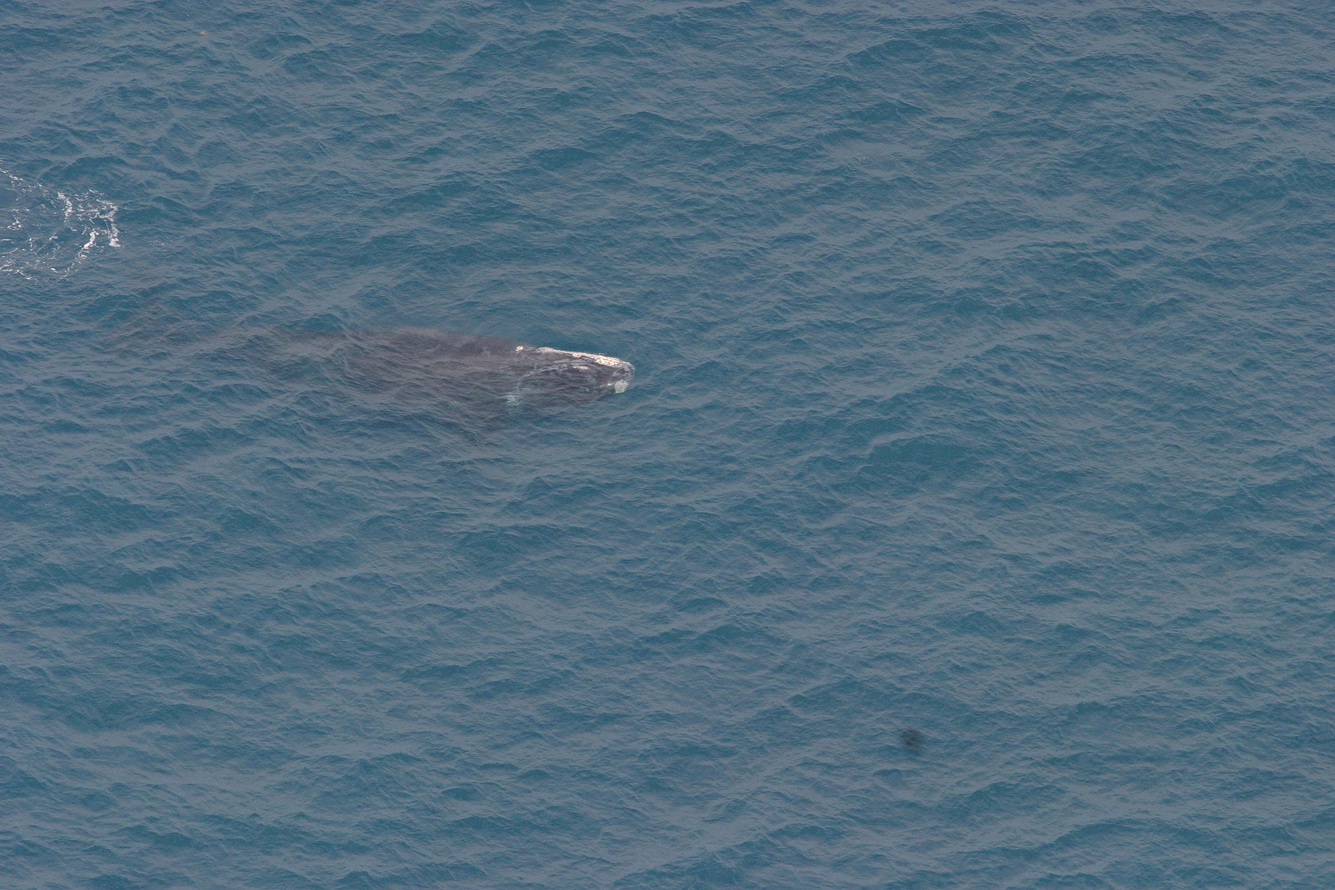whale: (67, 242, 643, 450)
